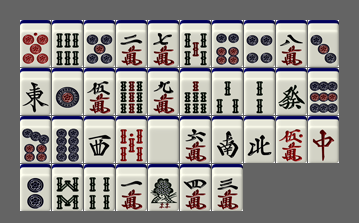0m: (276, 116, 307, 163)
0p: (20, 20, 51, 67)
0s: (116, 116, 147, 163)
1m: (116, 164, 147, 211)
1p: (52, 68, 83, 115)
1s: (148, 164, 179, 211)
1z: (20, 68, 51, 115)
2m: (116, 20, 147, 67)
2p: (20, 164, 51, 211)
2s: (244, 68, 275, 115)
2z: (212, 116, 243, 163)
3m: (212, 164, 243, 211)
3p: (308, 20, 339, 67)
3s: (212, 68, 243, 115)
3z: (84, 116, 115, 163)
4m: (180, 164, 211, 211)
4p: (244, 20, 275, 67)
4s: (84, 164, 115, 211)
4z: (244, 116, 275, 163)
5m: (84, 68, 115, 115)
5p: (84, 20, 115, 67)
5s: (180, 20, 211, 67)
5z: (148, 116, 179, 163)
6m: (180, 116, 211, 163)
6p: (212, 20, 243, 67)
6s: (52, 20, 83, 67)
6z: (276, 68, 307, 115)
7m: (148, 20, 179, 67)
7p: (20, 116, 51, 163)
7s: (180, 68, 211, 115)
7z: (308, 116, 339, 163)
8m: (276, 20, 307, 67)
8p: (52, 116, 83, 163)
8s: (52, 164, 83, 211)
9m: (148, 68, 179, 115)
9p: (308, 68, 339, 115)
9s: (116, 68, 147, 115)
